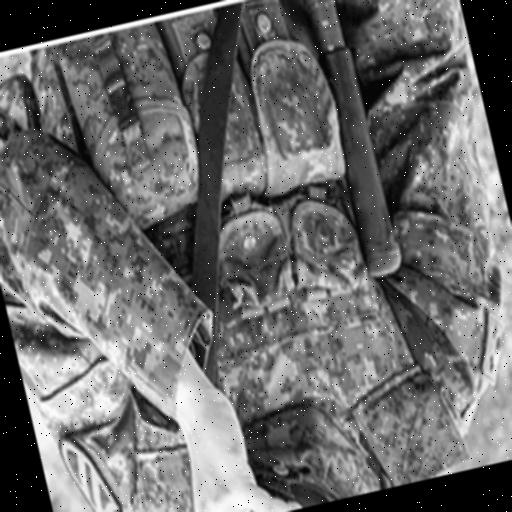korea army: (0, 0, 512, 512), (0, 102, 226, 439), (40, 0, 346, 247), (322, 0, 512, 388)
